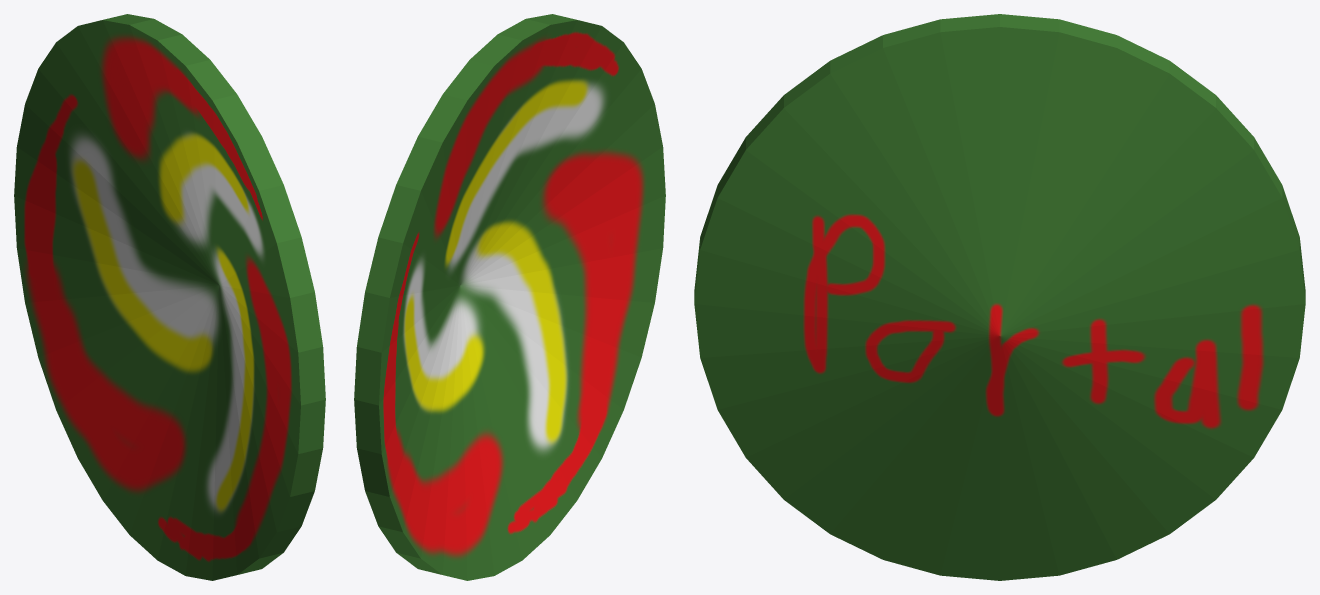
The model's file is Portal.glb.
3 renders of one model, left to right at view 1: azimuth 30°, elevation 25°; view 2: azimuth 150°, elevation 25°; view 3: azimuth 270°, elevation 25°, orthographic. The views are drawn at different scales.
Visible parts, largest first — view 1: Cylinder; view 2: Cylinder; view 3: Cylinder.
Boxes of the visible parts, x1=… form: Cylinder: x1=14, y1=14, x2=325, y2=580; Cylinder: x1=354, y1=14, x2=665, y2=580; Cylinder: x1=694, y1=14, x2=1305, y2=580.
Bounding box in the file's own units: 0.6982 × 4 × 4.
1 material, 1 textured.
